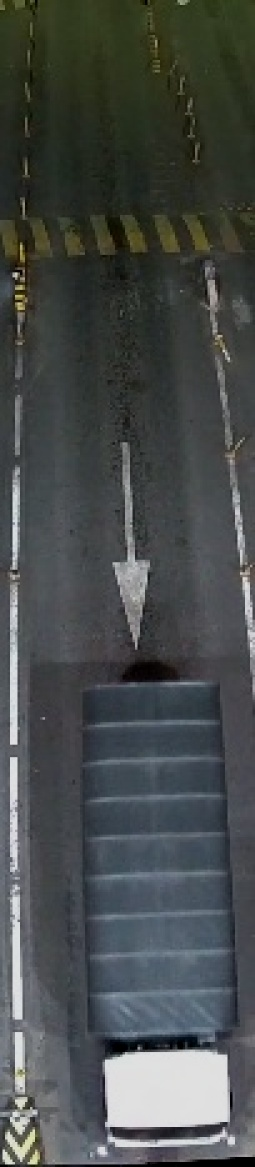truck: (72, 672, 244, 1151)
